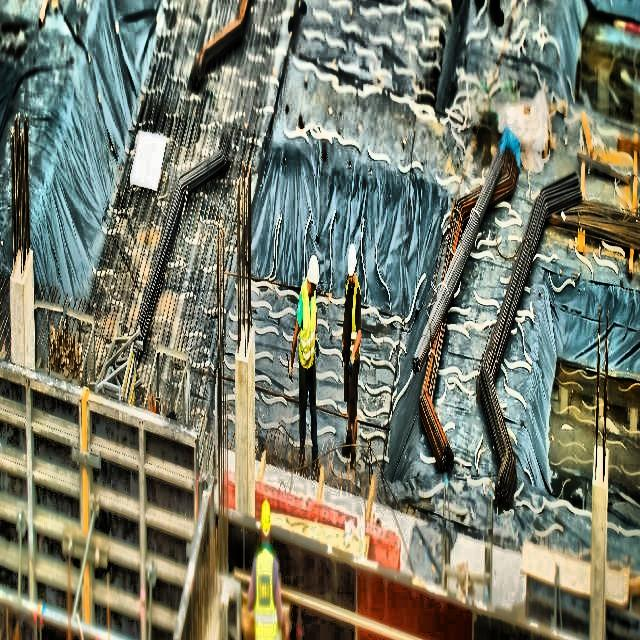person: (288, 247, 329, 496), (343, 230, 361, 492)
